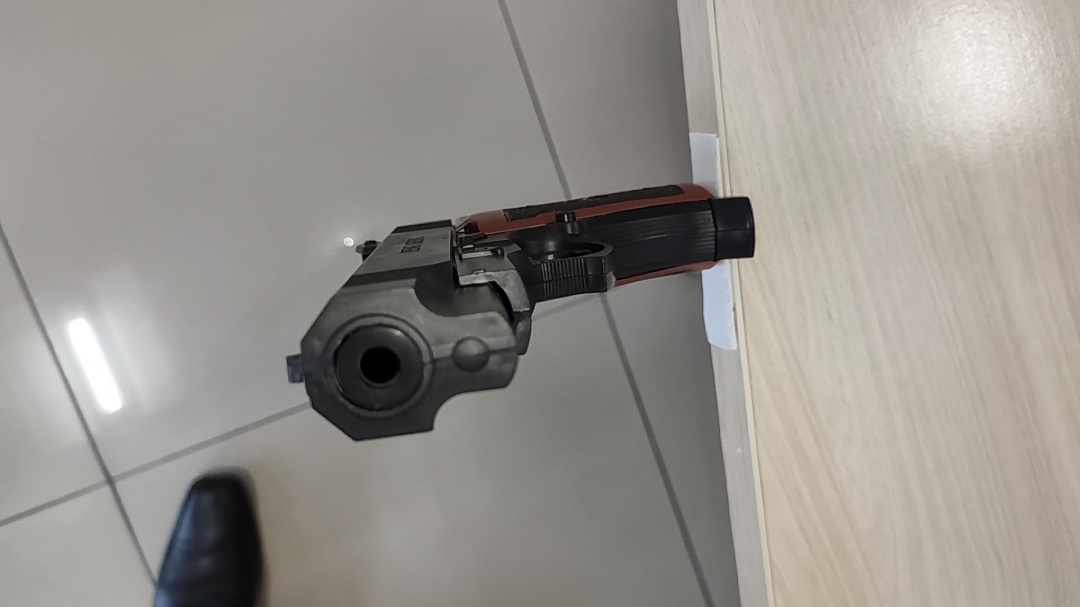gun: (288, 182, 755, 441)
